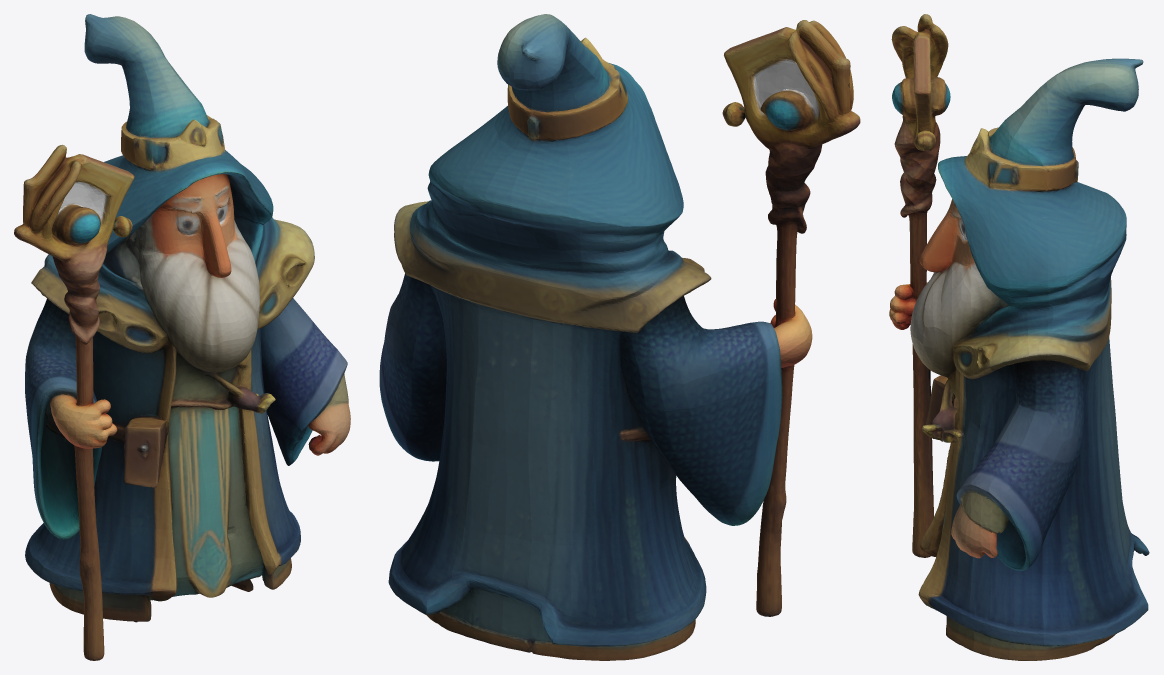
Rendered from unlimit.glb.
3 renders of one model, left to right at view 1: azimuth 30°, elevation 25°; view 2: azimuth 150°, elevation 25°; view 3: azimuth 270°, elevation 25°, orthographic. The views are drawn at different scales.
Parts seen in each view (by area): view 1: world; view 2: world; view 3: world.
Boxes of the visible parts, box(x1,y1,x2,y2) form: world: box(14, 14, 350, 660); world: box(379, 14, 860, 660); world: box(889, 14, 1149, 660).
Bounding box in the file's own units: 0.7092 × 0.9978 × 0.4286.
Materials: 1 (1 with a texture image).
